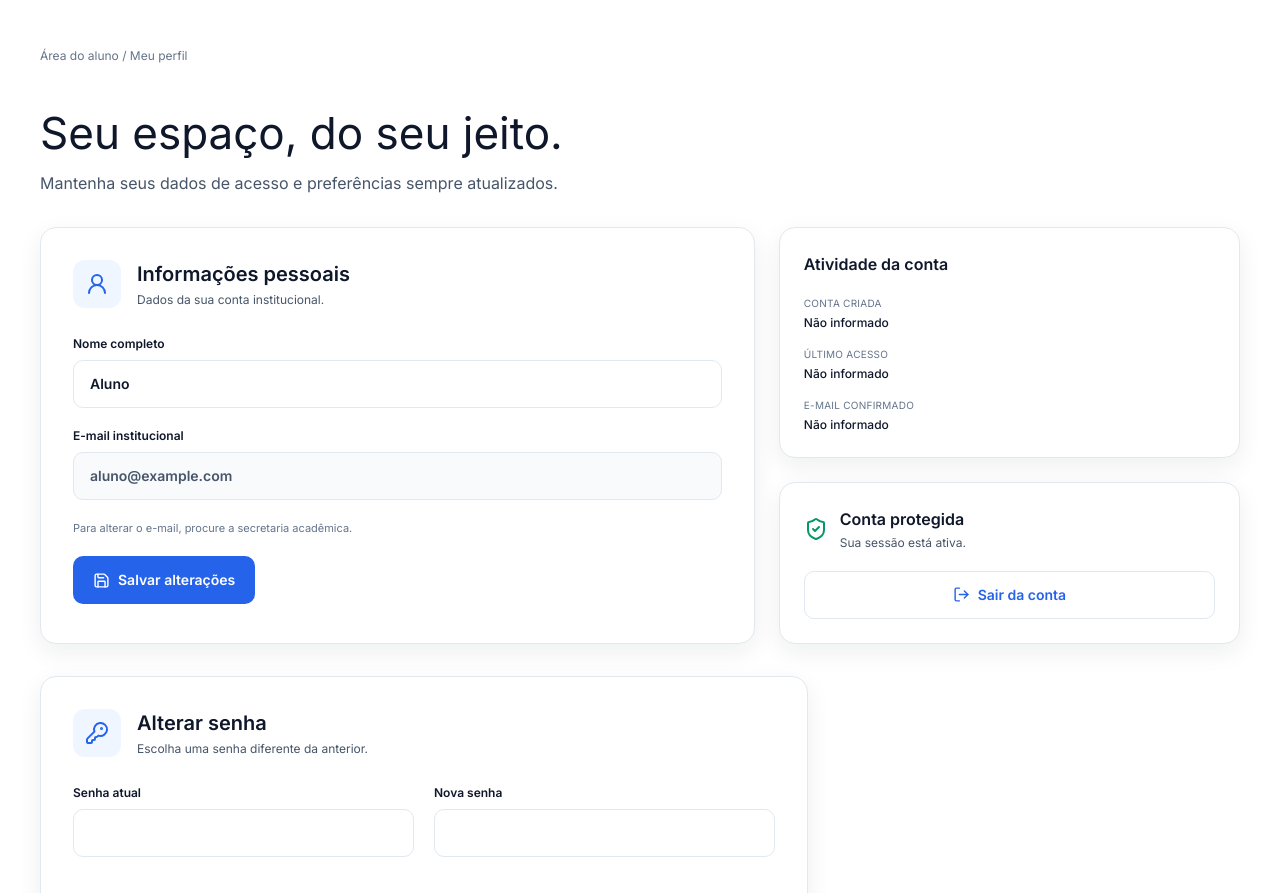
Scenario: informa falha no logout
Click the button "Sair da conta".
click(1009, 595)  # box [804, 571, 1215, 619]
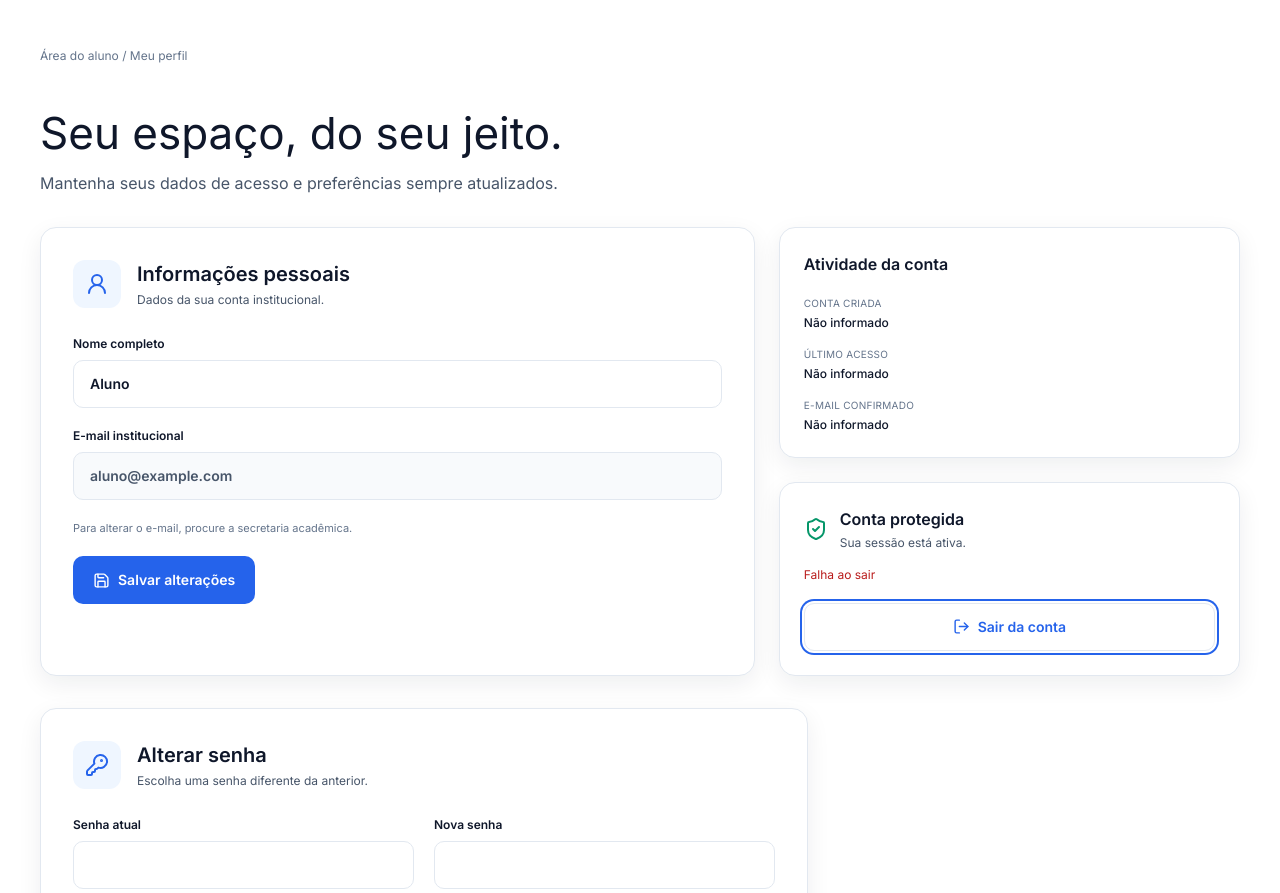
Now the message reads "Falha ao sair", box [804, 567, 875, 582]
